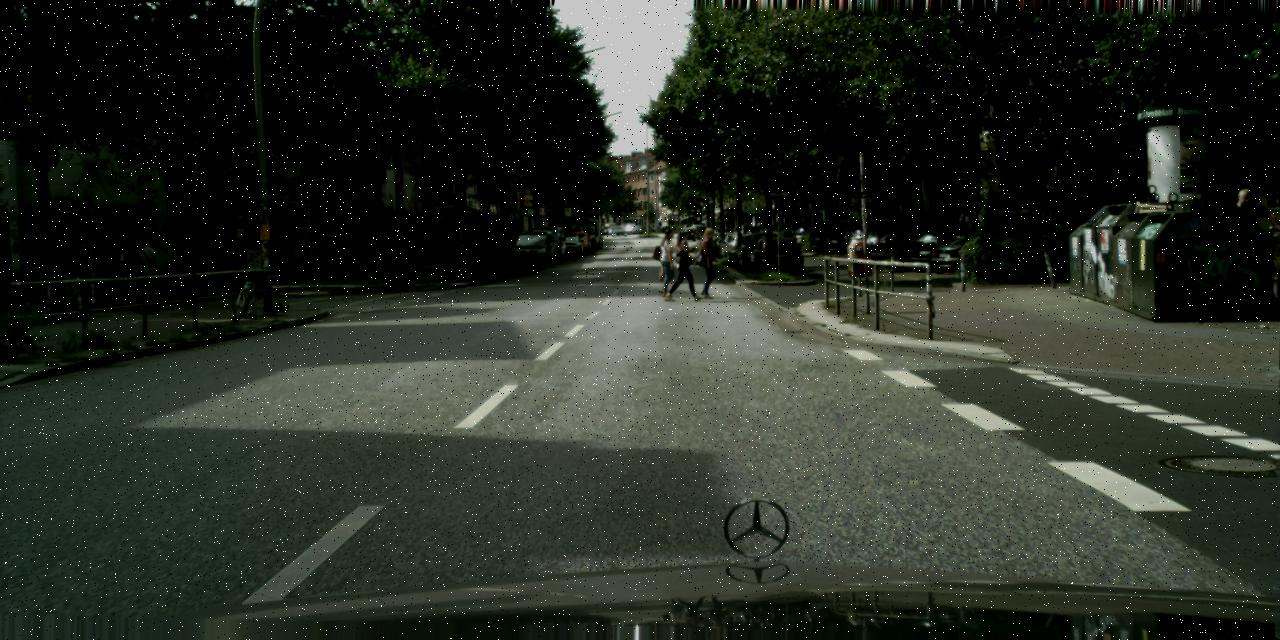ped: (1224, 188, 1262, 278), (670, 230, 699, 301), (693, 226, 721, 295), (652, 228, 679, 294), (64, 239, 90, 304), (133, 238, 159, 303)
